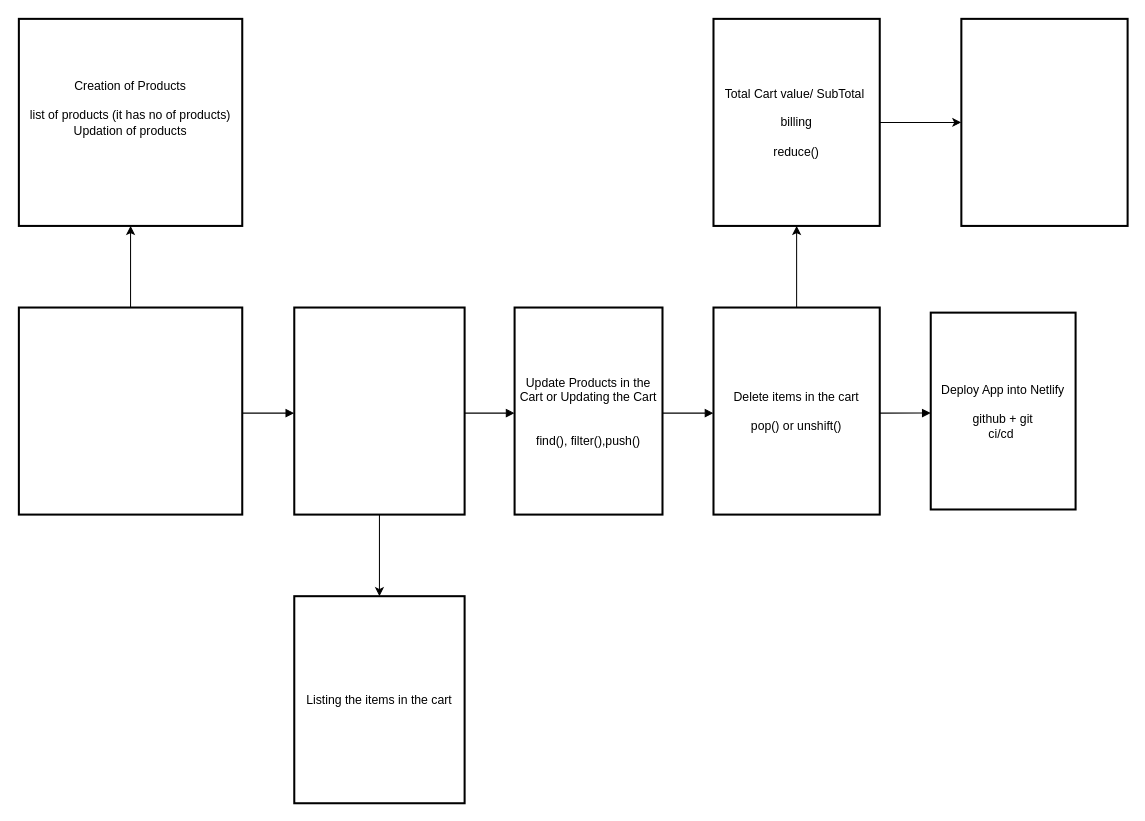
The diagram is 1145 pixels wide and 821 high, and some of its shapes have lost their labels. The shapes that lost their labels are listed below. From the top down, each one's box as (x1, y1, x2, y2) in pixels, then its label:
(960, 17, 1128, 226): Payment gateway
(17, 306, 243, 515): Listing out All products map()
(293, 306, 465, 515): Add Products to Cart push() or shift()
